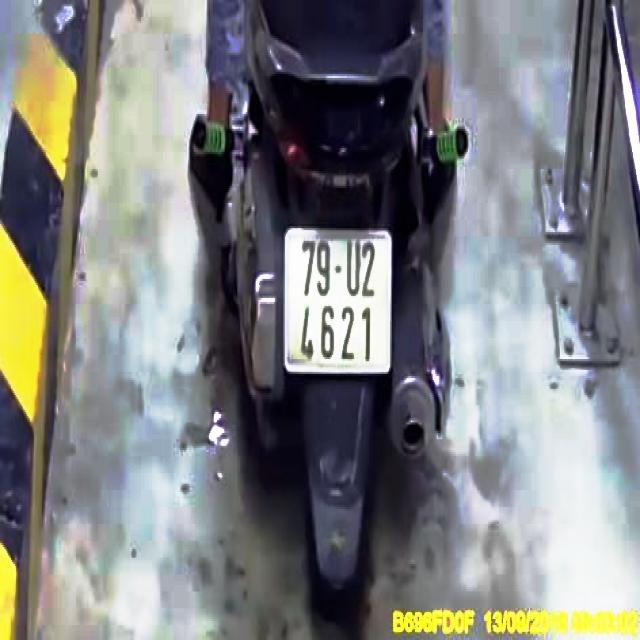license_plate: (286, 229, 393, 375)
